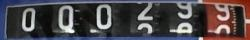digits: (172, 0, 196, 20), (57, 5, 74, 31), (135, 1, 156, 21), (96, 4, 111, 29), (21, 7, 36, 31), (212, 24, 232, 37)
